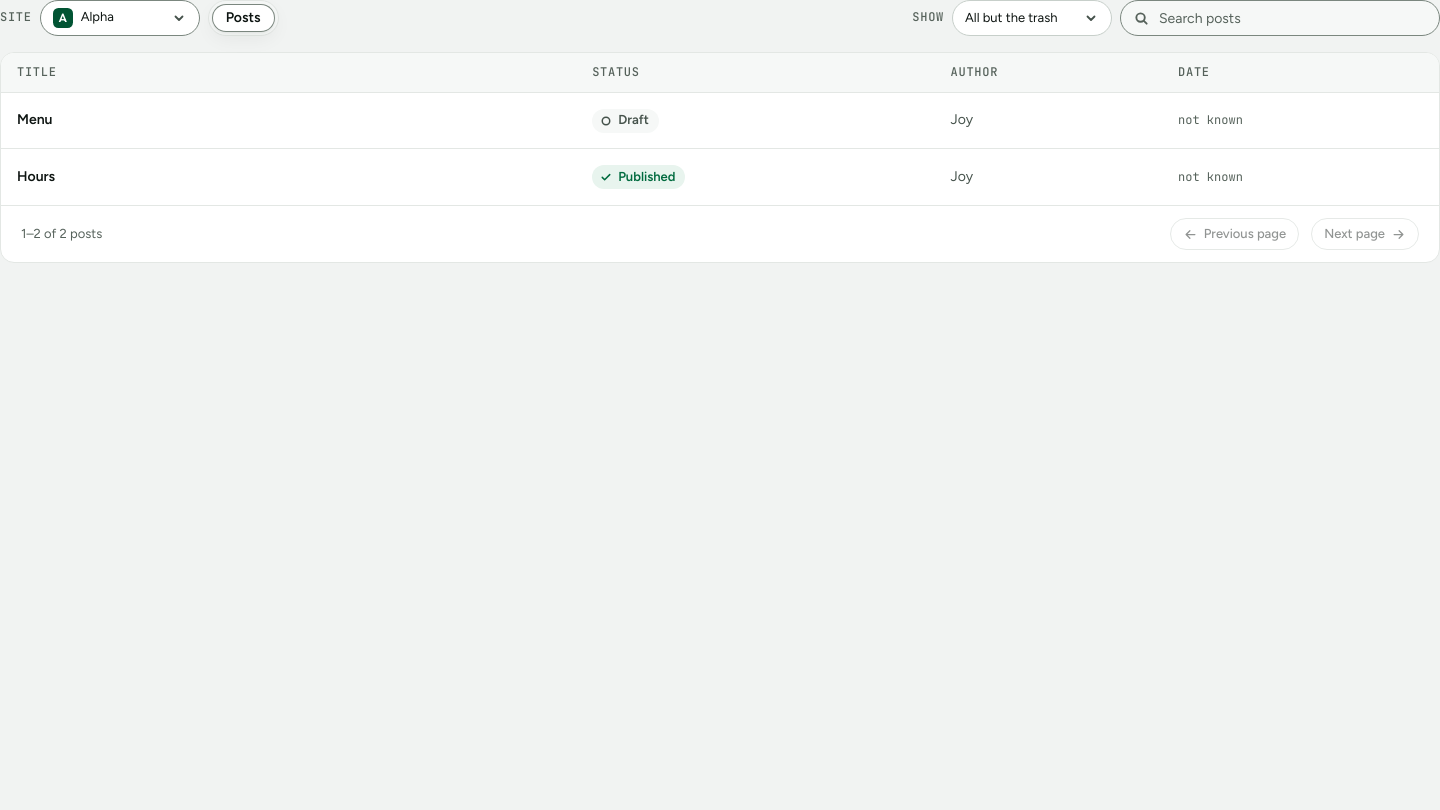
it: an entry moved to the trash comes back with Undo on the message
Click the button "Menu" at (35, 120), box [17,110,52,131]
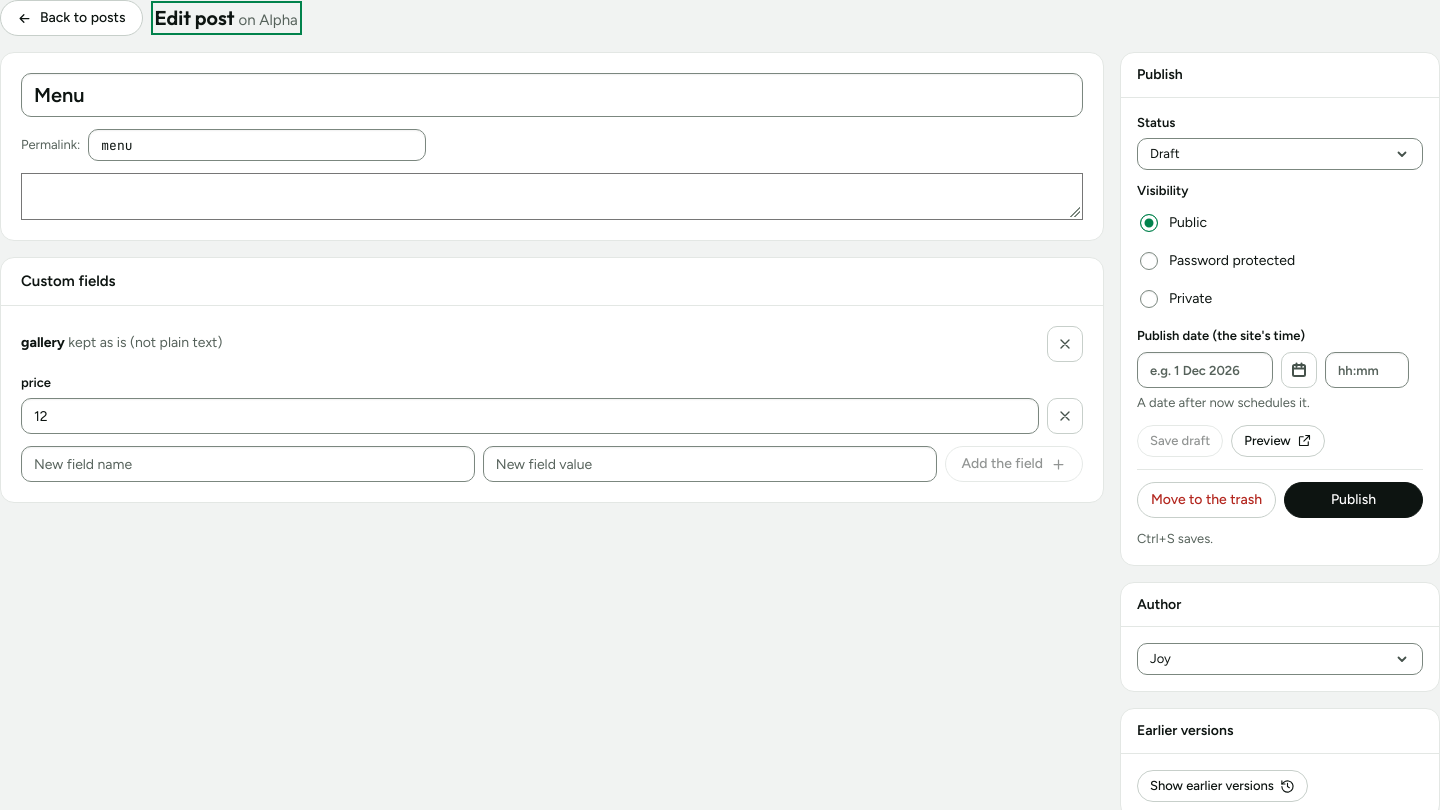
Click the button "Move to the trash" at (1206, 500), box [1137,482,1276,518]
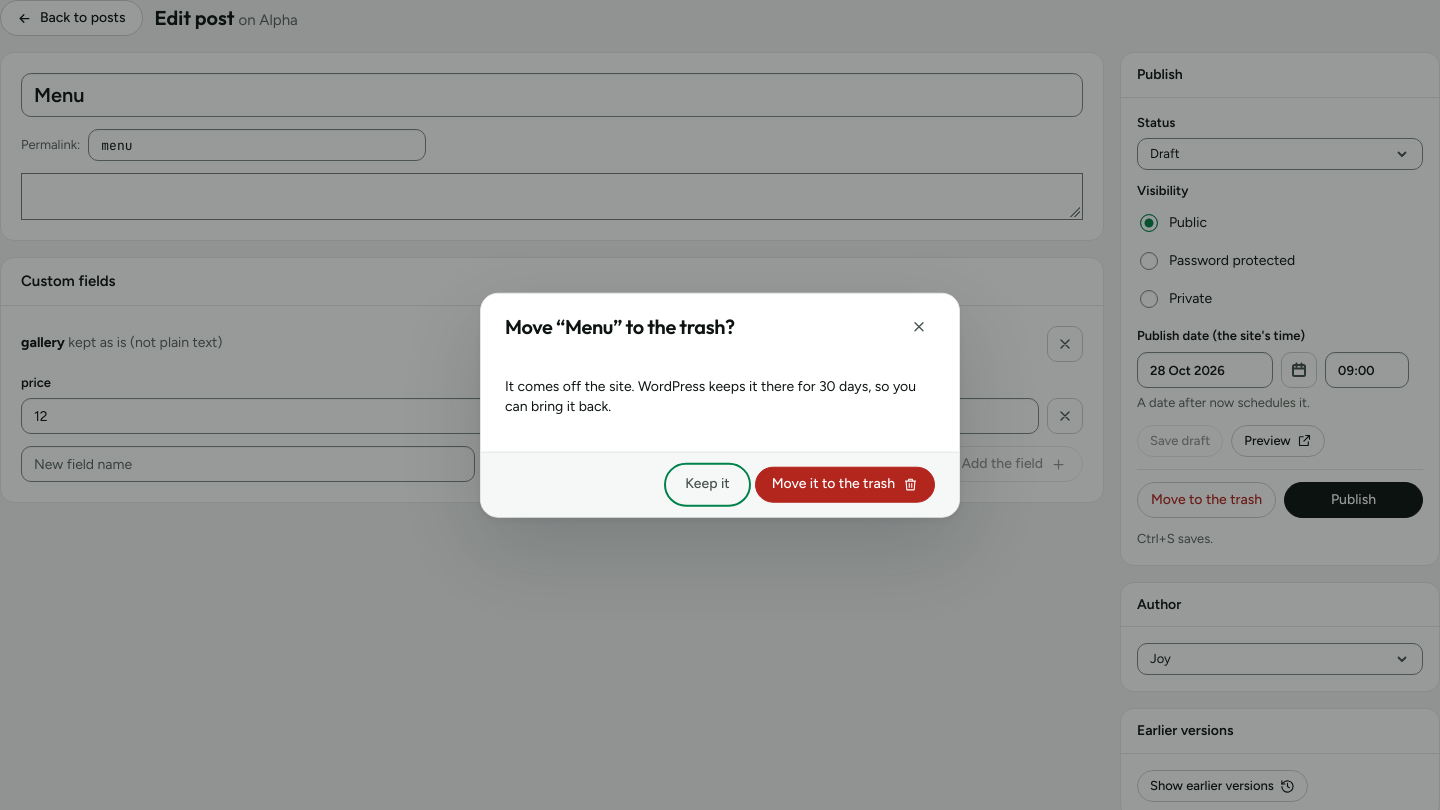
Click the button "Move it to the trash" at (845, 484), box [755,466,935,502]
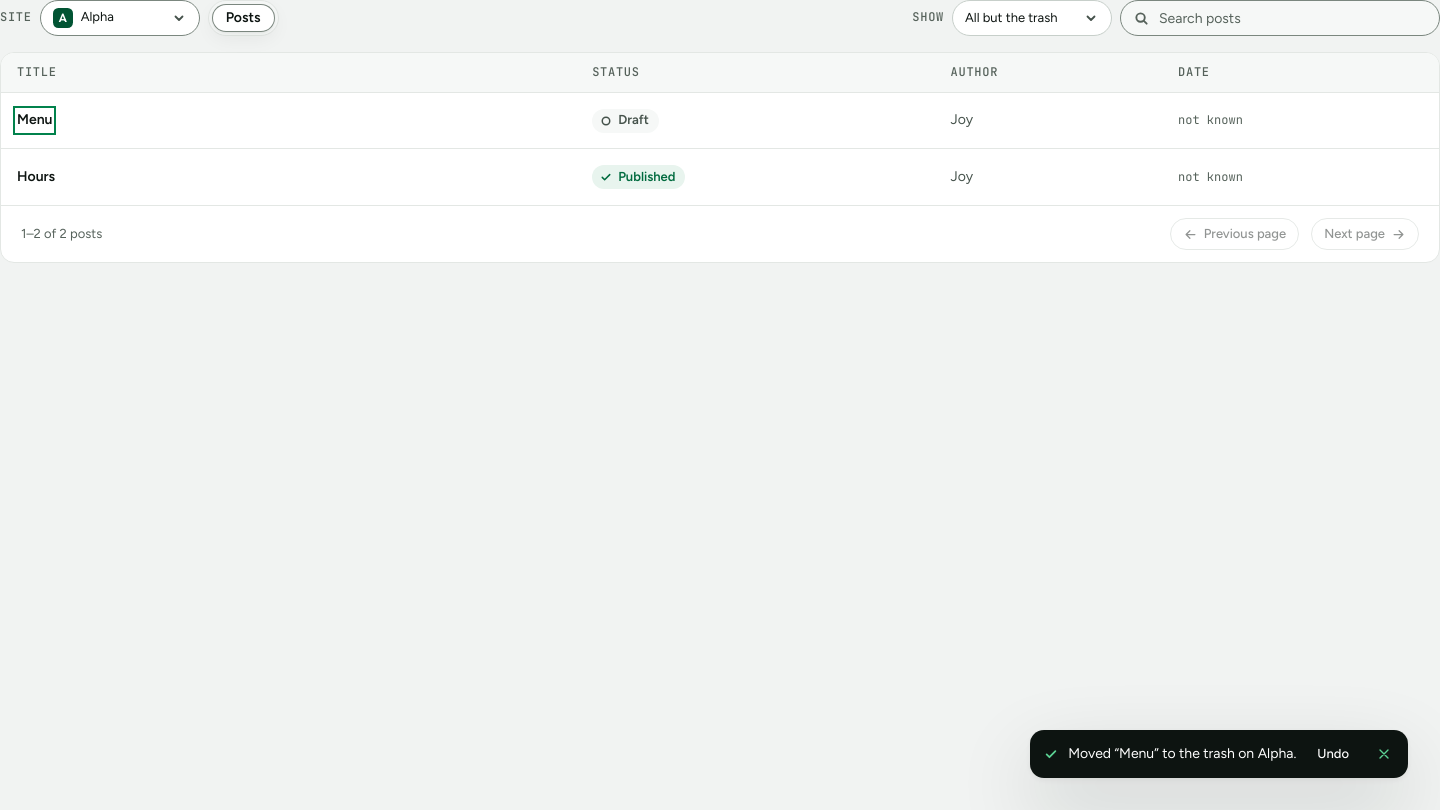
Click the button "Undo" at (1333, 754), box [1306,740,1360,768]
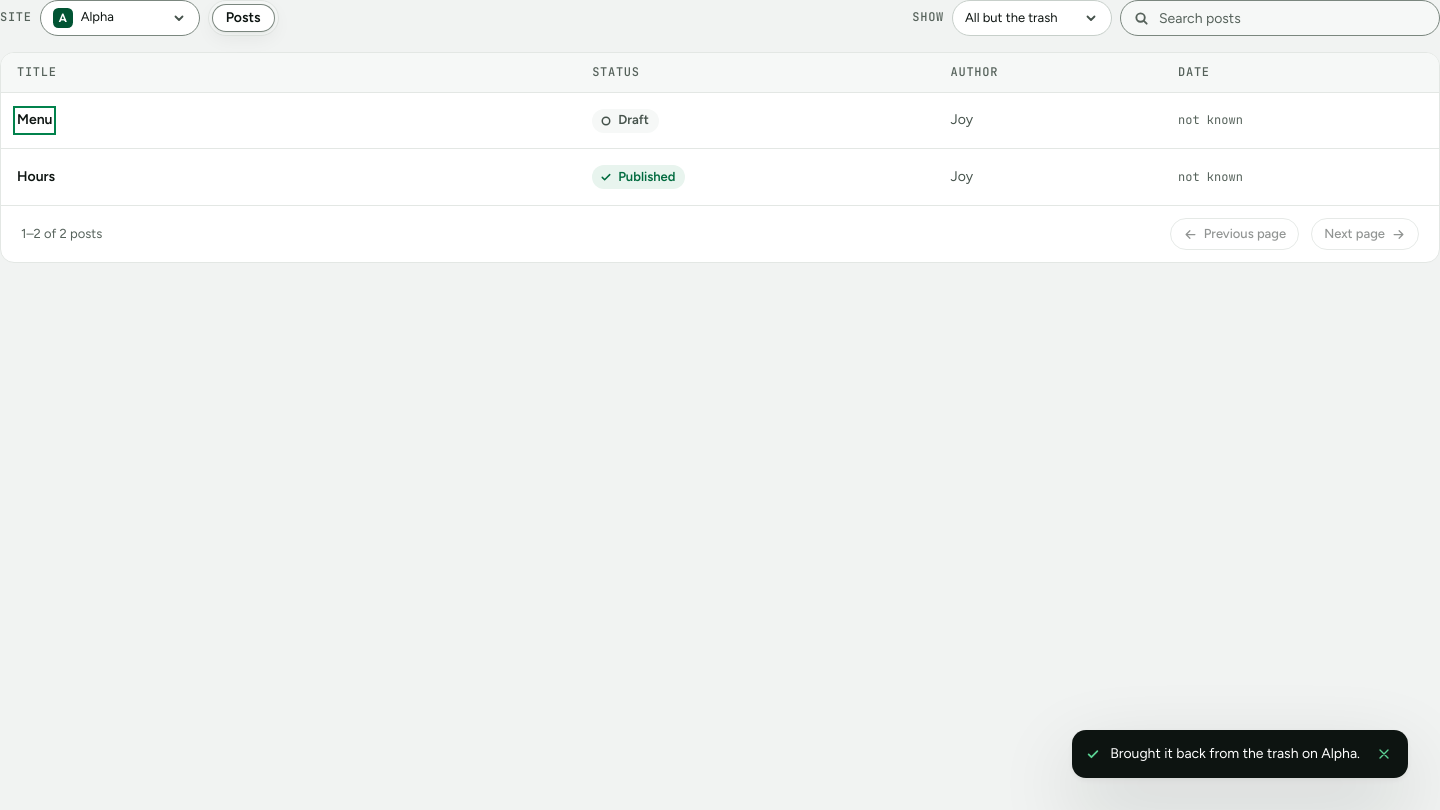
Expected: the text "Brought it back from the trash on Alpha." is shown, [1110,744,1360,764]
